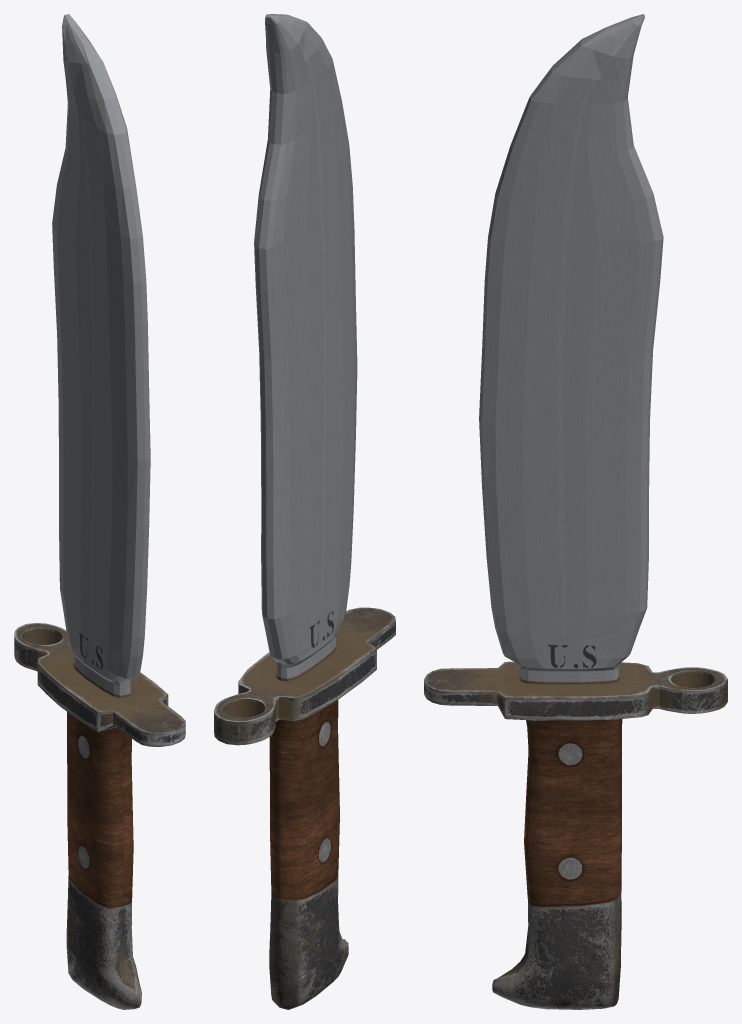
File: BowieAnimed.fbx
3 views of the same model, side by side, from view 1: azimuth 30°, elevation 25°; view 2: azimuth 150°, elevation 25°; view 3: azimuth 270°, elevation 25° (orthographic). The views are drawn at different scales.
Visible parts, largest first — view 1: Bowie_low; view 2: Bowie_low; view 3: Bowie_low.
Boxes of the visible parts, x1,y1,x2,y2 form: Bowie_low: (14,14,185,1009); Bowie_low: (214,14,395,1009); Bowie_low: (424,14,727,1009).
Bounding box in the file's own units: 3.41 × 42.62 × 11.8.
